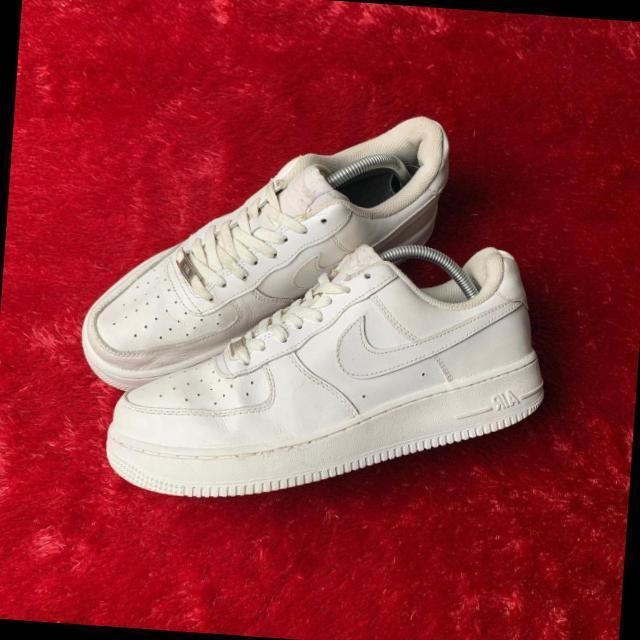nike fake air force: (101, 220, 564, 522), (68, 88, 456, 404)
